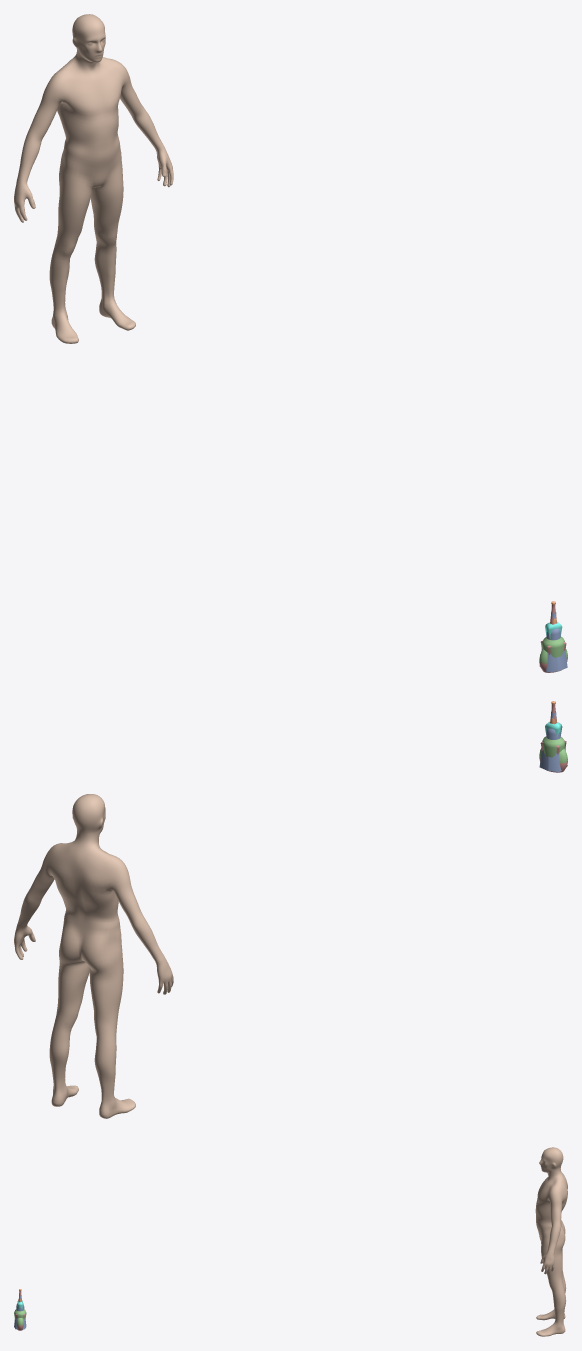
Rendered from LiqourBottles01.fbx.
3 renders of one model, top to bottom at view 1: azimuth 30°, elevation 25°; view 2: azimuth 150°, elevation 25°; view 3: azimuth 270°, elevation 25°, orthographic. The views are drawn at different scales.
Visible parts, largest first — view 1: humanBody; view 2: humanBody; view 3: humanBody.
Boxes of the visible parts, <box> form: humanBody: <box>14,14,173,343</box>; humanBody: <box>14,794,173,1118</box>; humanBody: <box>535,1147,567,1336</box>.
Bounding box in the file's own units: 95.48 × 183 × 513.
2 materials, 1 textured.
